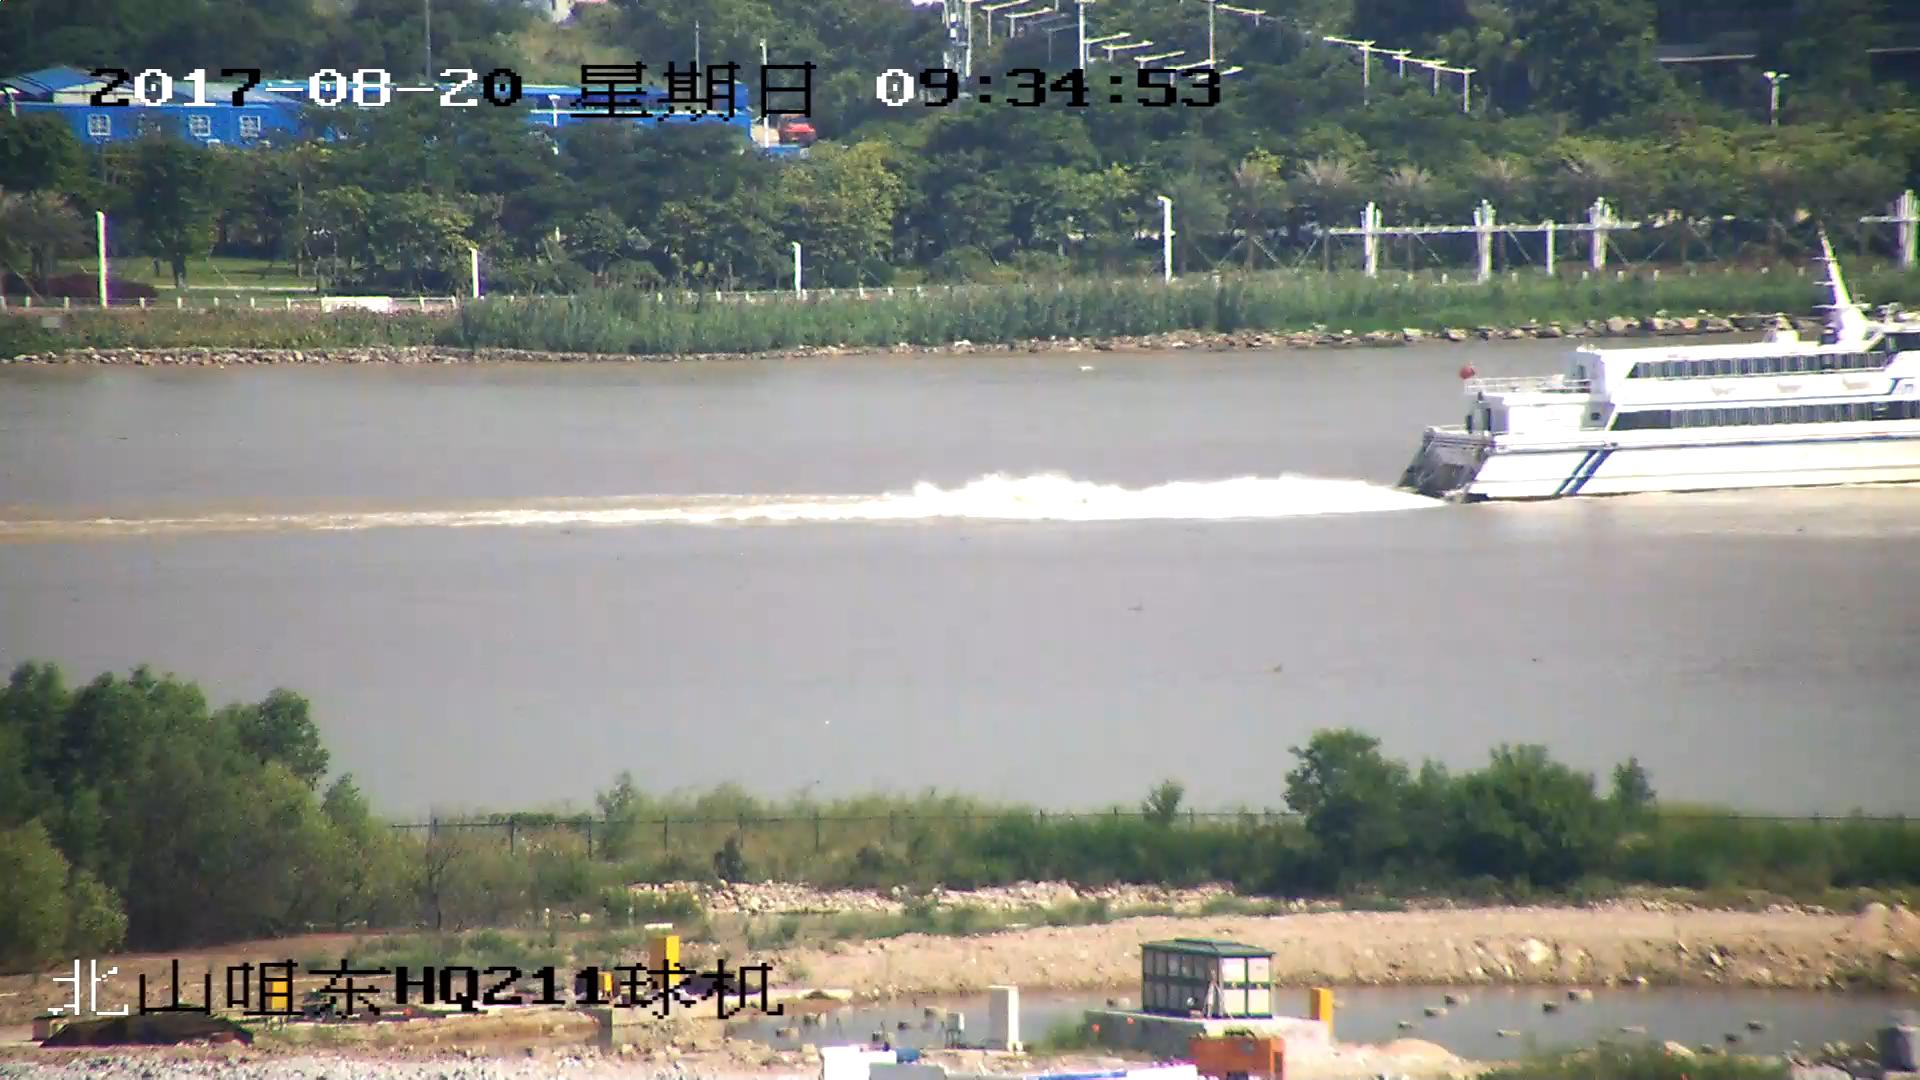passenger ship: (1408, 240, 1920, 504)
